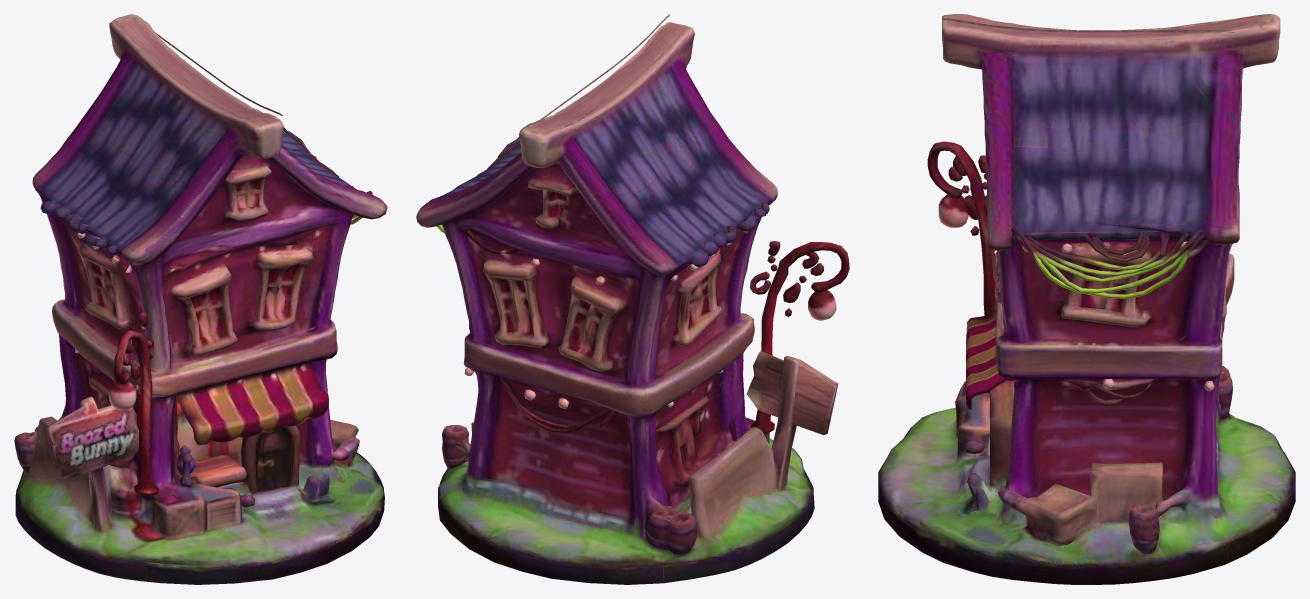
File: bb_house_fin.glb
3 renders of one model, left to right at view 1: azimuth 30°, elevation 25°; view 2: azimuth 150°, elevation 25°; view 3: azimuth 270°, elevation 25°, orthographic. The views are drawn at different scales.
Parts seen in each view (by area): view 1: Meshy_Mesh_0.004; view 2: Meshy_Mesh_0.004; view 3: Meshy_Mesh_0.004.
Part boxes in pixels (x1,y1,x2,y2): Meshy_Mesh_0.004: (14, 14, 387, 584); Meshy_Mesh_0.004: (416, 14, 849, 584); Meshy_Mesh_0.004: (878, 14, 1295, 584).
Size of the model in its own units: 1.59 by 1.94 by 1.49.
1 material, 1 textured.
